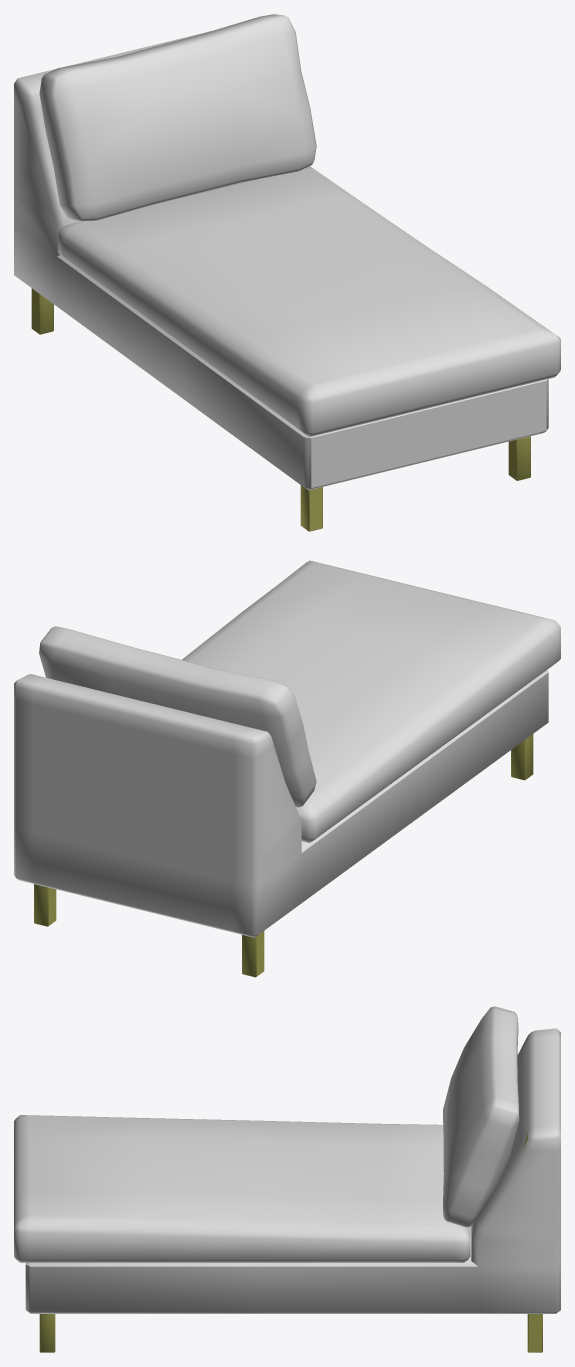
File: KARLSTADChaisefreestandingunit.FBX
The picture shows the model from 3 angles, top to bottom: view 1: azimuth 30°, elevation 25°; view 2: azimuth 150°, elevation 25°; view 3: azimuth 270°, elevation 25°; orthographic projection. The views are drawn at different scales.
Visible parts, largest first — view 1: KARLSTADChaisefreestandingunit; view 2: KARLSTADChaisefreestandingunit; view 3: KARLSTADChaisefreestandingunit.
Boxes of the visible parts, x1=… form: KARLSTADChaisefreestandingunit: x1=14, y1=14, x2=560, y2=531; KARLSTADChaisefreestandingunit: x1=14, y1=560, x2=560, y2=977; KARLSTADChaisefreestandingunit: x1=14, y1=1006, x2=560, y2=1352.
Bounding box in the file's own units: 78.02 × 158 × 80.23.
